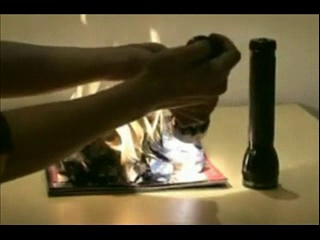fire: (117, 108, 165, 184), (70, 79, 103, 99), (148, 27, 163, 45)
